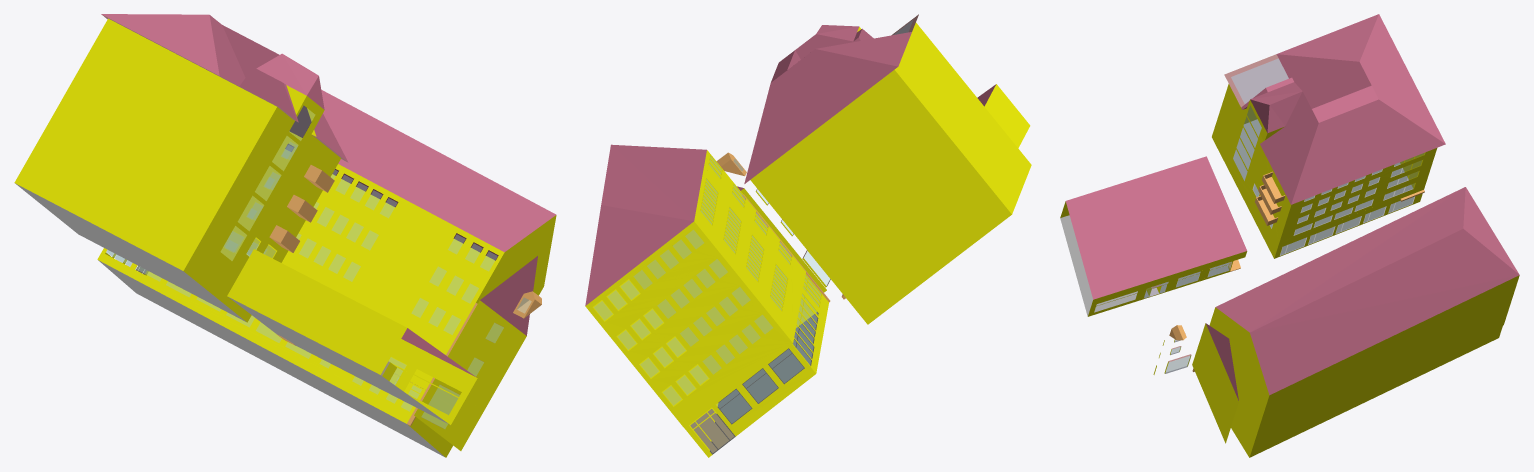
The picture shows the model from 3 angles, left to right: view 1: azimuth 30°, elevation 25°; view 2: azimuth 150°, elevation 25°; view 3: azimuth 270°, elevation 25°; orthographic projection. The views are drawn at different scales.
Visible parts, largest first — view 1: mesh; view 2: mesh; view 3: mesh.
Part boxes in pixels (box(x1,y1,x2,y2)): mesh: box(14, 14, 556, 457); mesh: box(585, 14, 1031, 457); mesh: box(1060, 14, 1519, 457).
Size of the model in its own units: 46.27 by 41.76 by 50.39.
